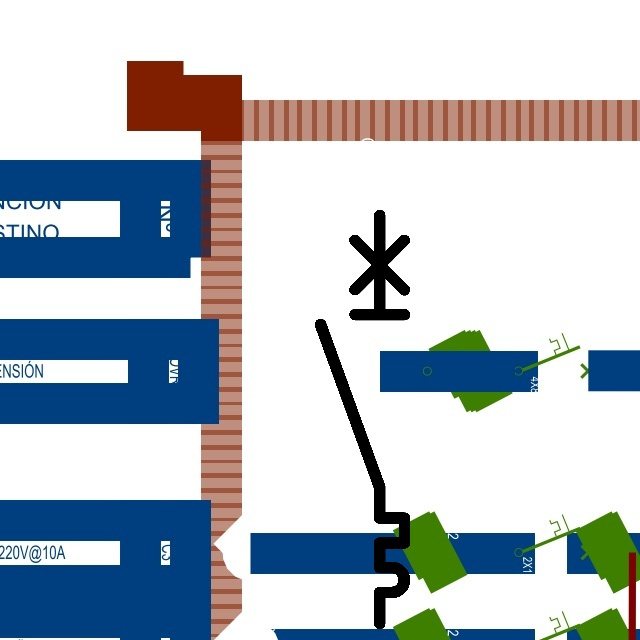interruptor_termomagnetico: (310, 205, 415, 634)
